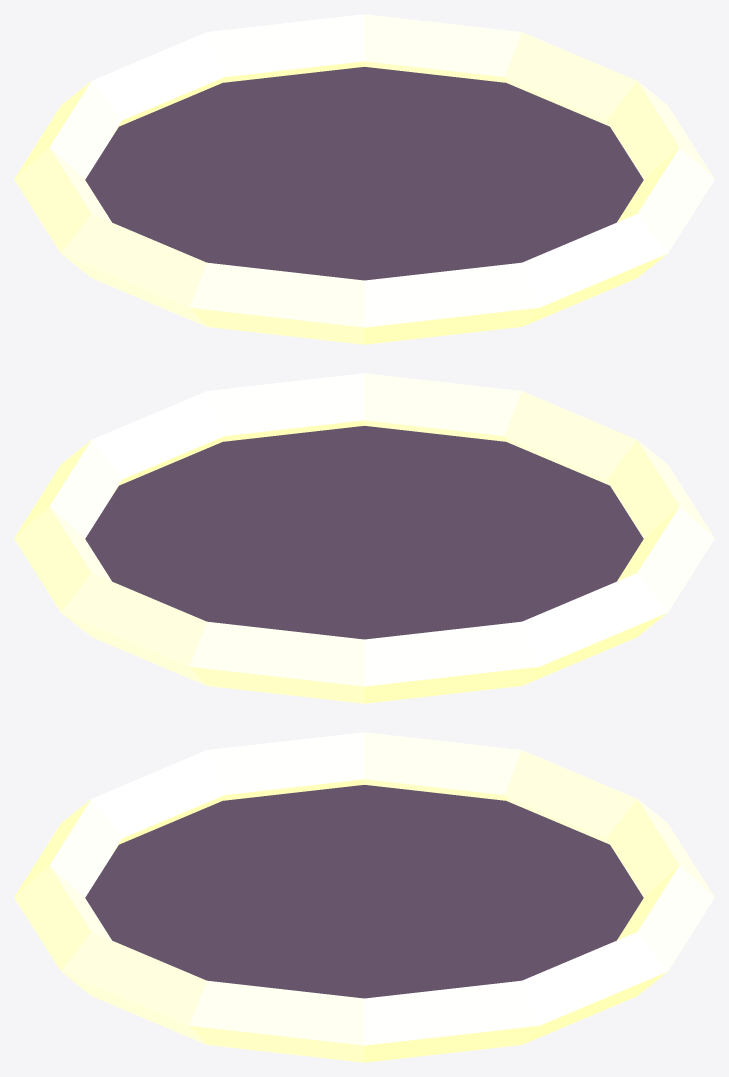
Rendered from burner.glb.
3 renders of one model, top to bottom at view 1: azimuth 30°, elevation 25°; view 2: azimuth 150°, elevation 25°; view 3: azimuth 270°, elevation 25°, orthographic.
Parts seen in each view (by area): view 1: Grate, Flame; view 2: Grate, Flame; view 3: Grate, Flame.
Part boxes in pixels (x1=…): Grate: x1=85, y1=67, x2=643, y2=280; Flame: x1=14, y1=14, x2=714, y2=344; Grate: x1=85, y1=426, x2=643, y2=639; Flame: x1=14, y1=373, x2=714, y2=703; Grate: x1=85, y1=785, x2=643, y2=998; Flame: x1=14, y1=732, x2=714, y2=1062.
Size of the model in its own units: 0.89 by 0.095 by 0.89.
